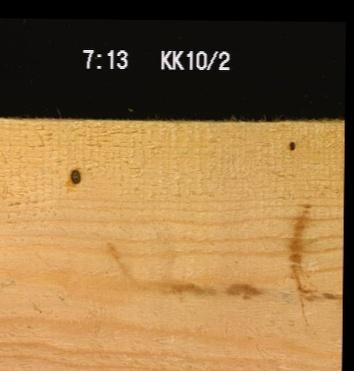dry_knot: (68, 167, 80, 184), (286, 139, 295, 151)
